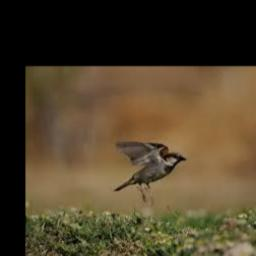Sparrow: (113, 141, 186, 206)
